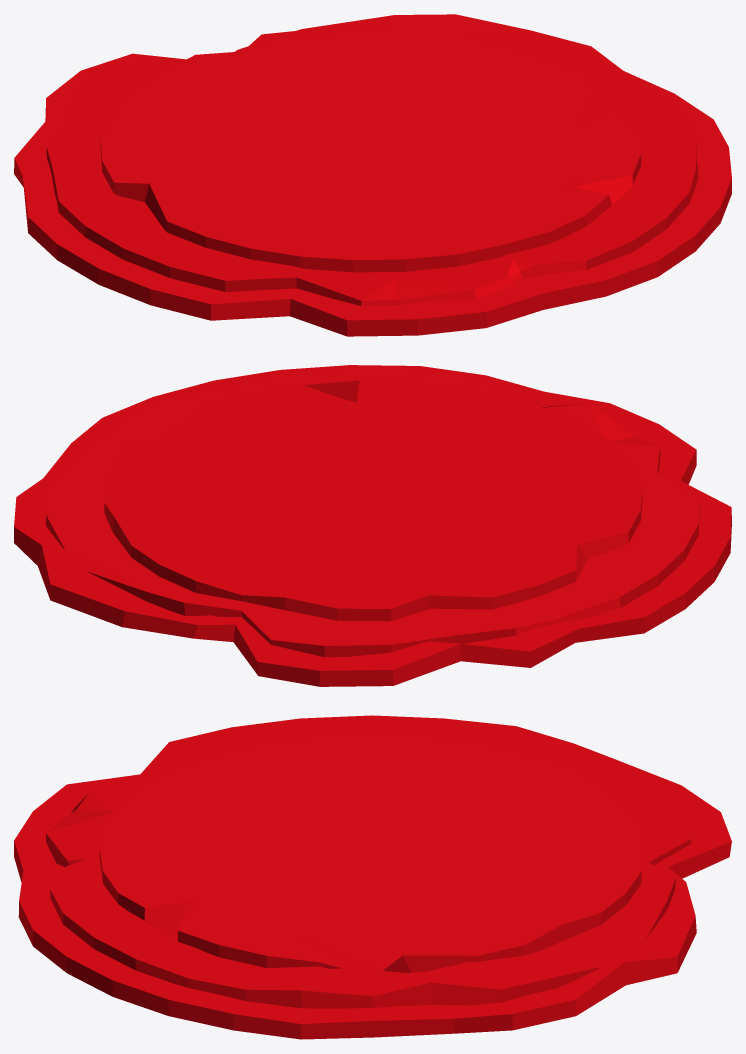
The model's file is portal.fbx.
3 views of the same model, one above another, from view 1: azimuth 30°, elevation 25°; view 2: azimuth 150°, elevation 25°; view 3: azimuth 270°, elevation 25° (orthographic).
Parts seen in each view (by area): view 1: Circle; view 2: Circle; view 3: Circle.
Boxes of the visible parts, x1,y1,x2,y2 form: Circle: [14, 14, 731, 336]; Circle: [14, 365, 731, 686]; Circle: [14, 715, 731, 1039].
Size of the model in its own units: 129 by 9.69 by 127.
